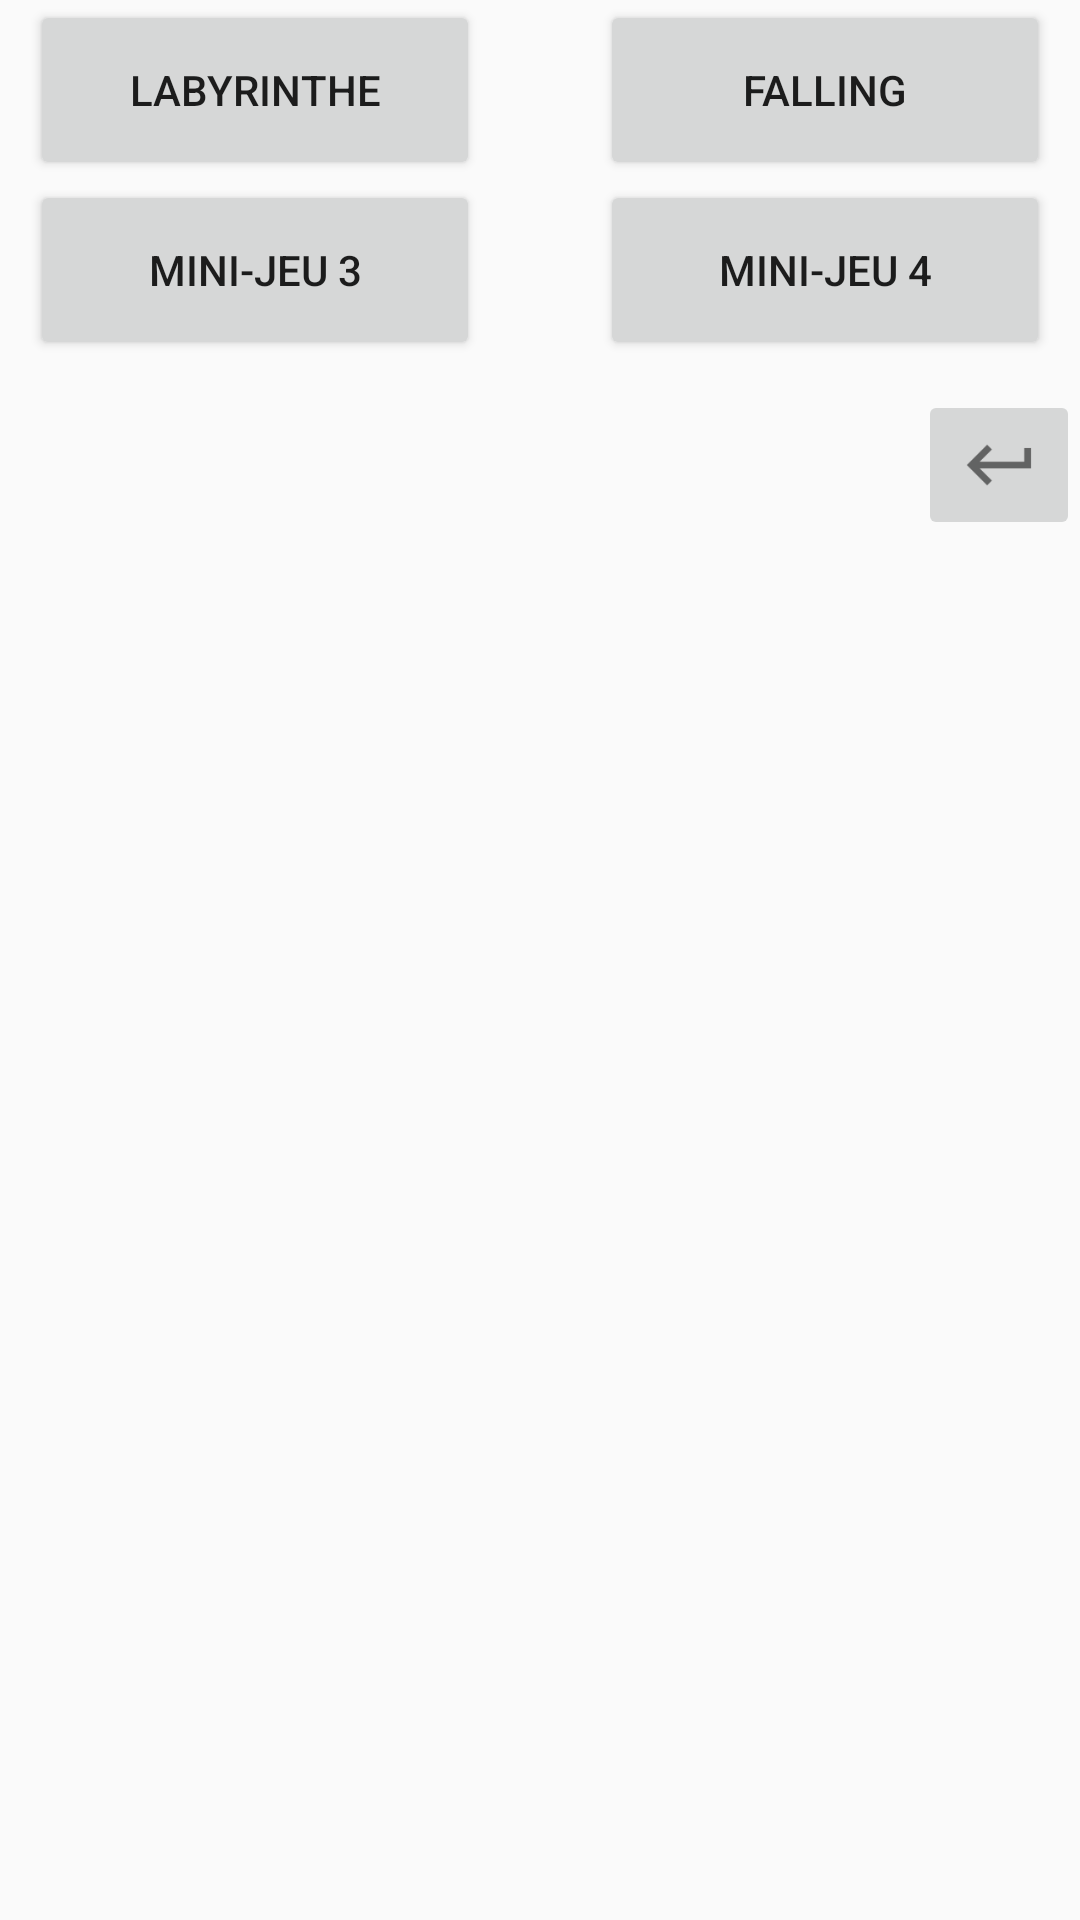

Screen size 1080x1920. Icon name, then its center in pixels as [x,y]:
keyboard return: [999,465]
